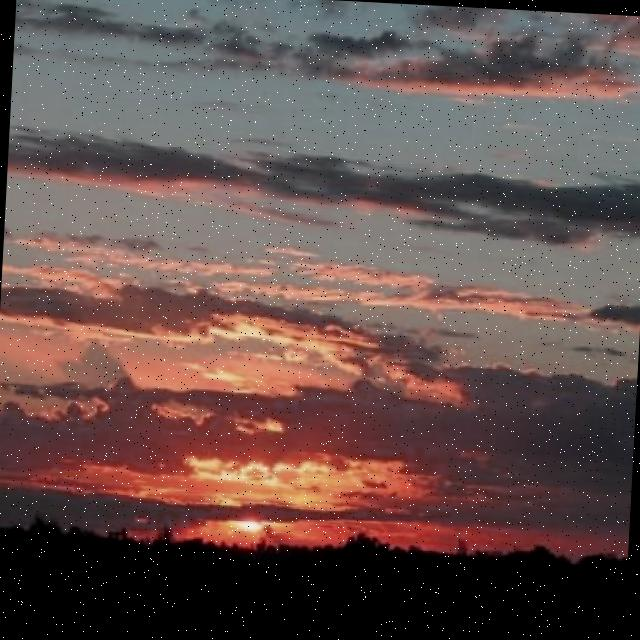Ac: (1, 1, 640, 509)
